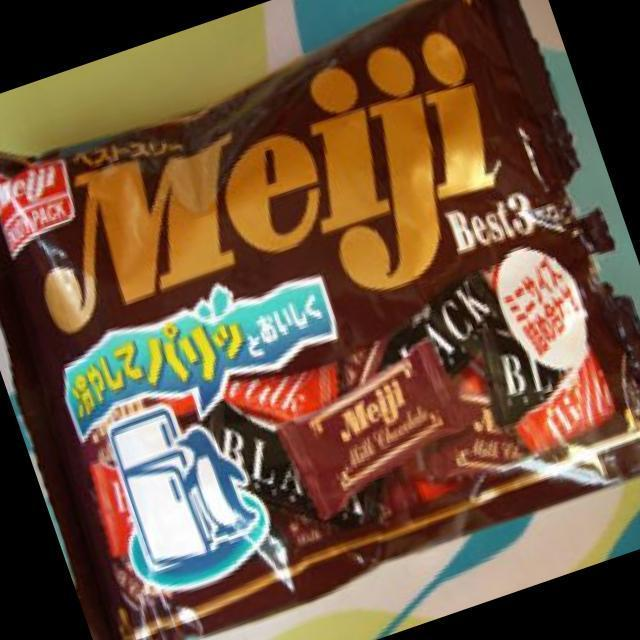Dry Waste: (149, 52, 640, 536), (0, 121, 146, 539), (64, 538, 301, 640), (340, 0, 555, 51)
